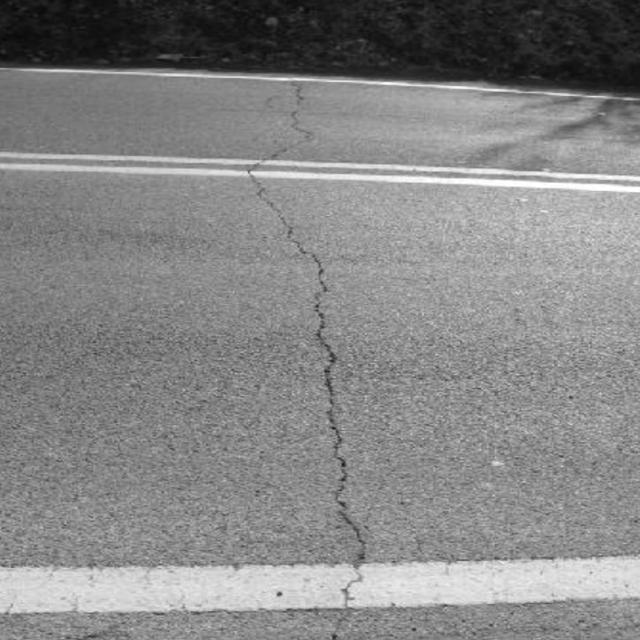Memanjang: (233, 80, 380, 640)
